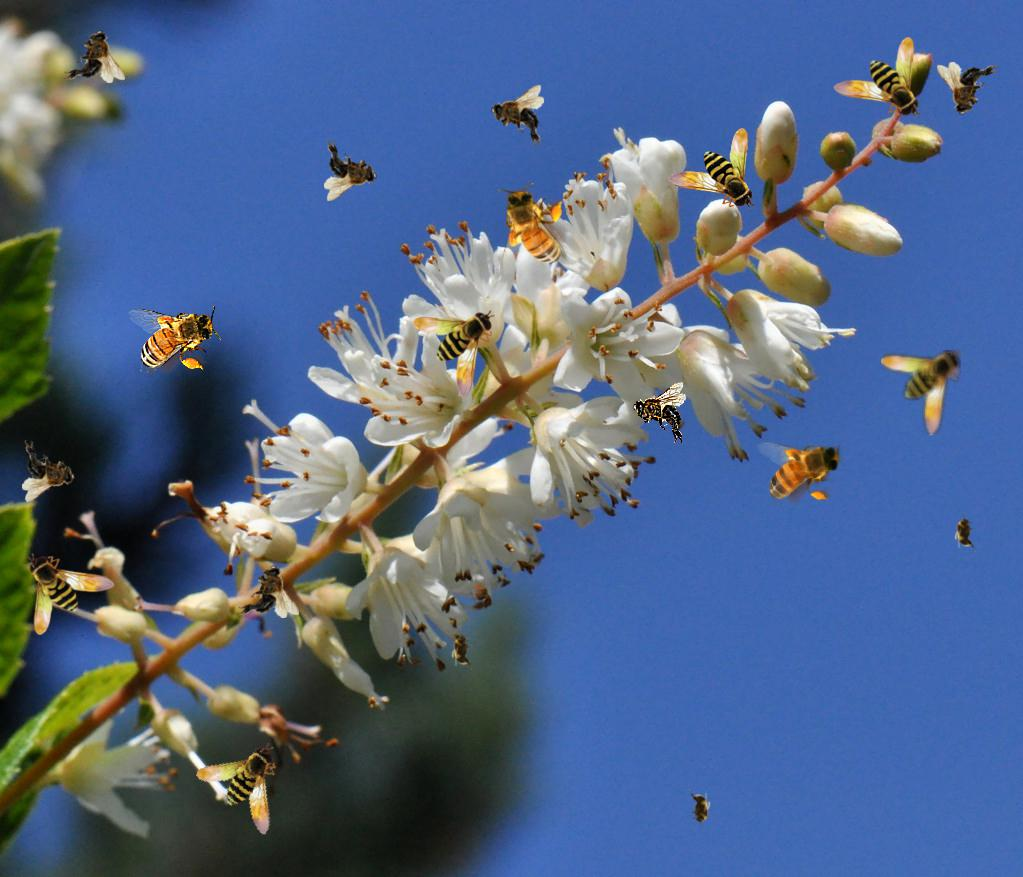Bee: (193, 741, 295, 849), (833, 37, 921, 119), (413, 310, 495, 398), (881, 348, 963, 436), (667, 128, 755, 210), (27, 553, 115, 635), (498, 183, 566, 276), (128, 305, 221, 373), (755, 437, 848, 505), (21, 439, 76, 503), (937, 62, 999, 115), (237, 565, 299, 618), (63, 30, 125, 83), (633, 382, 686, 444), (491, 85, 544, 147), (324, 139, 377, 201), (451, 630, 473, 670), (689, 789, 711, 829), (954, 512, 976, 552)
